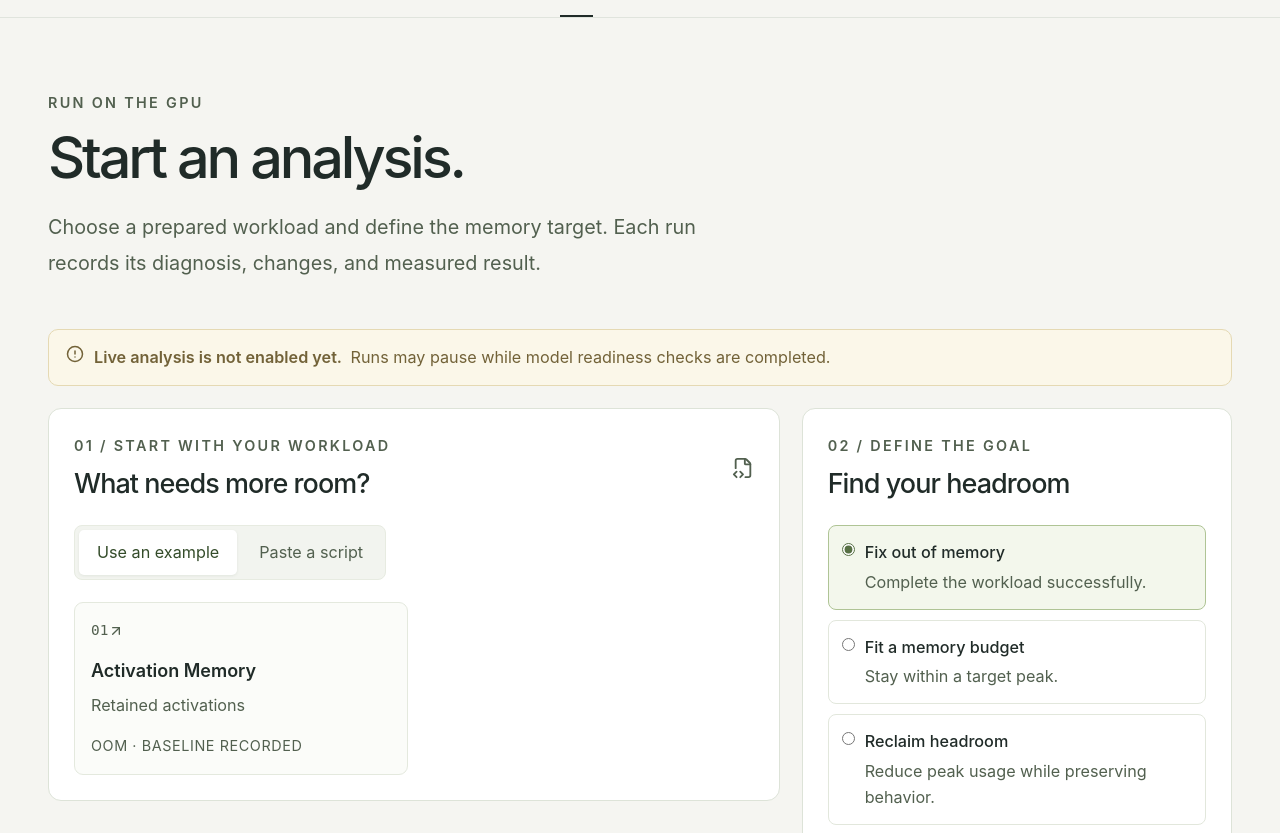
Test: workspace state › exposes script entry and the actual request policy controls
Expected: the button "Activation memory" is shown, [74,602,408,775]
Click the button "Paste a script".
click(311, 552)  # box [241,530,381,575]
(page scrolled)
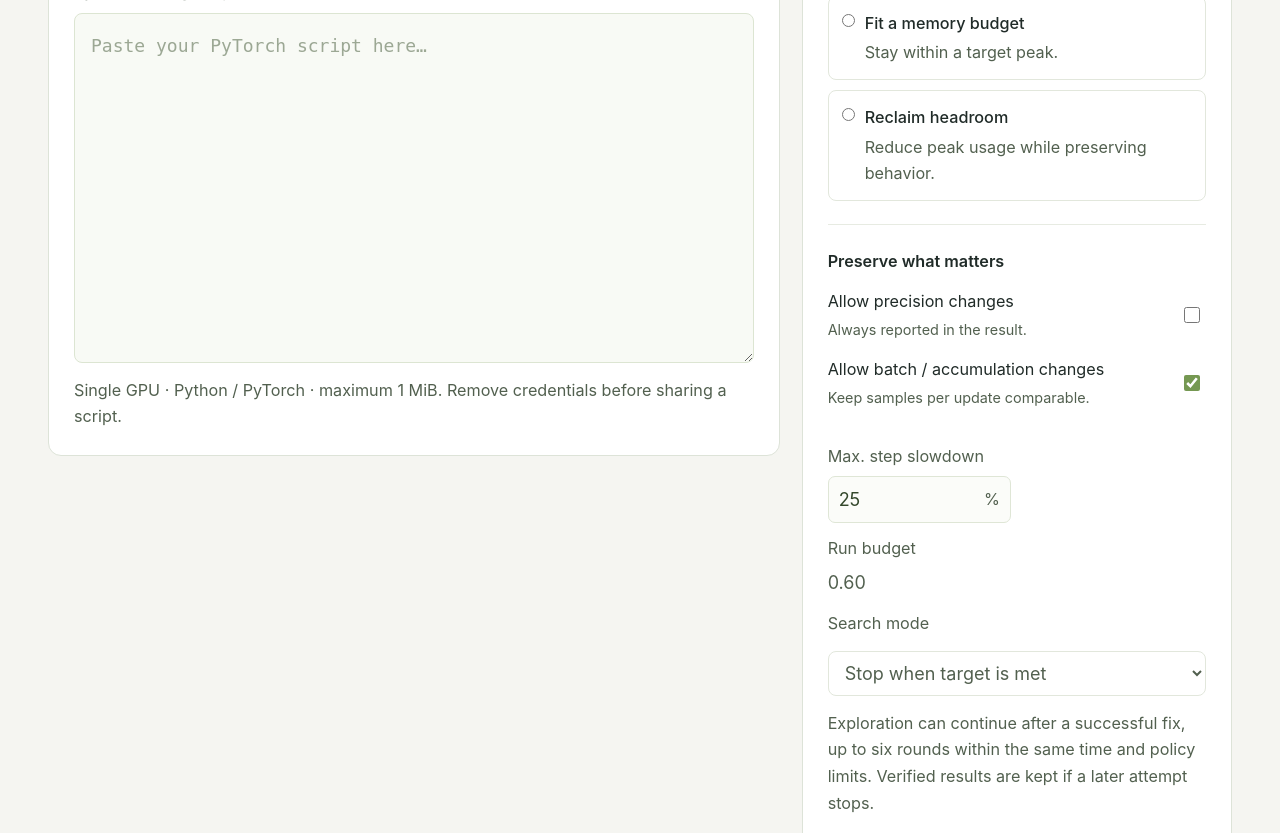
Expected: the checkbox labelled "Allow precision changes Always reported in the result." is not checked, [1178,307,1206,323]
Result: the text box labelled "Python training script" is shown at [74,12,754,362]
